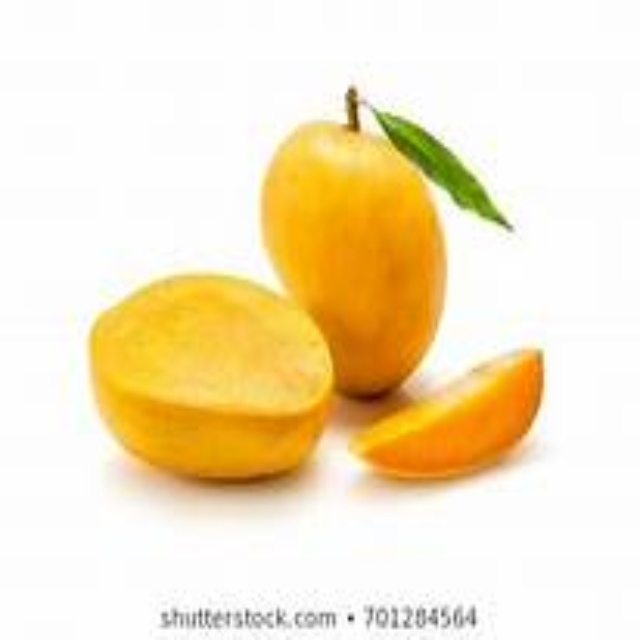mango: (254, 110, 463, 402), (85, 270, 341, 481)
